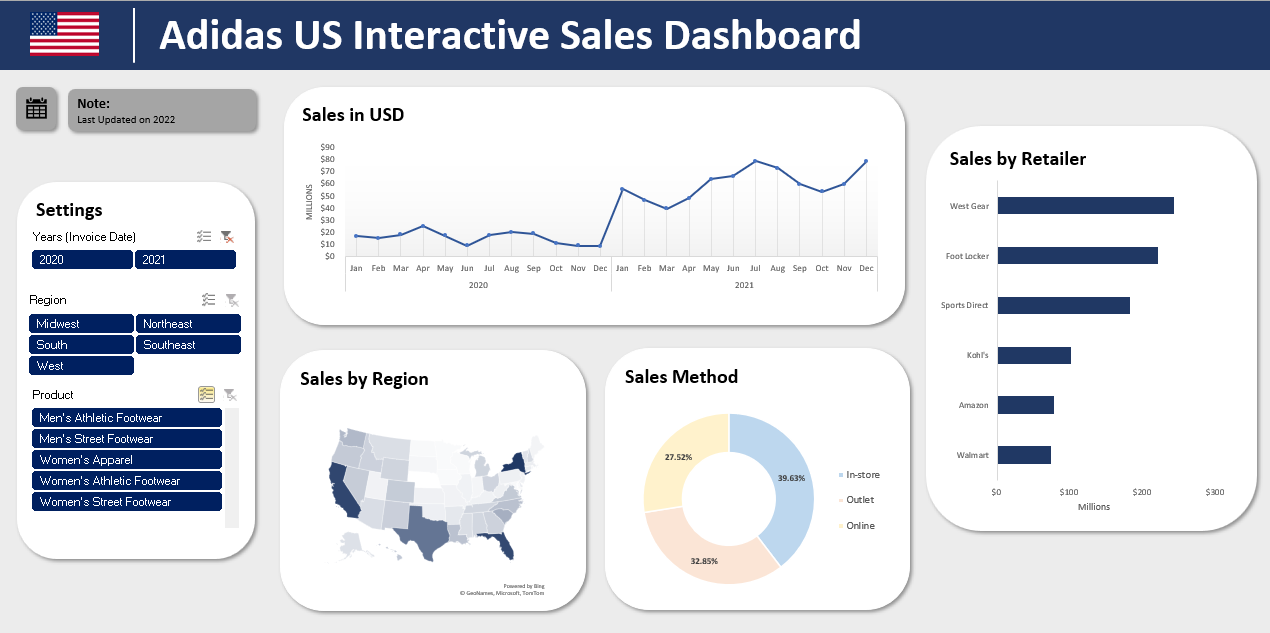

What the dashboard file says about the page in this screenshot:
{"tool":"powerbi","page":{"name":"Page 1","canvas":[1280,720],"ordinal":0},"visuals":[{"type":"group","id":"g1","title":"Group 2","box":[285,113.1,254.2,142.1],"z":0},{"type":"shape","box":[873.1,404.4,398.7,315.6],"z":1000},{"type":"shape","box":[0,423.3,485.7,257],"z":2000},{"type":"shape","box":[485.7,404.4,387.4,315.6],"z":3000},{"type":"shape","box":[570.7,115.3,701.1,289.1],"z":4000},{"type":"shape","box":[285,255.1,254.2,142.1],"z":4000,"group":"g2"},{"type":"shape","box":[0,0,1279.4,113.4],"z":5000},{"type":"shape","box":[285,113.1,254.2,142.1],"z":5000,"group":"g1"},{"type":"shape","box":[5.7,189,272.1,149.3],"z":6000},{"type":"textbox","box":[0,13.2,1279.4,88.8],"z":7000},{"type":"image","box":[126.6,7.6,98.3,88.8],"z":8000},{"type":"lineChart","title":"Total Sales in USD","fields":{"Category":["Data.Invoice Date.Variation.Date Hierarchy.Year","Data.Invoice Date.Variation.Date Hierarchy.Month"],"Y":["Sum(Data.Total Sales)"]},"box":[610.4,141.7,635,241.9],"z":9000},{"type":"columnChart","title":"Total Sales by Retailer","fields":{"Category":["Data.Retailer"],"Y":["Data.SUM of Sales"]},"box":[892.5,419.6,380.4,296.3],"z":10000},{"type":"card","fields":{"Values":["Data.YoY Growth"]},"box":[338.3,130.4,198.4,113.4],"z":11000},{"type":"card","fields":{"Values":["Data.SUM of Sales"]},"box":[33.3,206.7,215.5,117.4],"z":12000},{"type":"tableEx","title":"Product by Category","fields":{"Values":["Data.Product","Data.SUM of Sales","Sum(Data.Units Sold)"]},"box":[20.8,438.4,446,241.9],"z":13000},{"type":"card","fields":{"Values":["Data.TriangleIcon"]},"box":[291,141.7,71.8,71.8],"z":15000},{"type":"slicer","title":"Year","fields":{"Values":["Data.Invoice Date.Variation.Date Hierarchy.Year"]},"box":[13.2,117.2,257,71.8],"z":16000},{"type":"barChart","title":"Total Sales by Region and Sales Method","fields":{"Category":["Data.Region"],"Y":["Sum(Data.Total Sales)"],"Series":["Data.Sales Method"]},"box":[504.6,419.5,387.4,296.7],"z":17000},{"type":"group","id":"g2","title":"Group 2","box":[285,255.1,254.2,142.1],"z":18000},{"type":"card","fields":{"Values":["Sum(Data.Operating Profit)"]},"box":[295.3,261.7,241.1,125.2],"z":18500}]}

Visuals, with their boxes on the page's 1280x720 design canvas (x1, y1, x2, y2). These are canvas units, not pixel positions in the 1270x633 screenshot, which may show the page scaled, cropped or inside an application window:
"Group 2" group: detection(285, 113, 539, 255)
shape: detection(873, 404, 1272, 720)
shape: detection(0, 423, 486, 680)
shape: detection(486, 404, 873, 720)
shape: detection(571, 115, 1272, 404)
shape: detection(285, 255, 539, 397)
shape: detection(0, 0, 1279, 113)
shape: detection(285, 113, 539, 255)
shape: detection(6, 189, 278, 338)
textbox: detection(0, 13, 1279, 102)
image: detection(127, 8, 225, 96)
"Total Sales in USD" lineChart: detection(610, 142, 1245, 384)
"Total Sales by Retailer" columnChart: detection(892, 420, 1273, 716)
card - Data.YoY Growth: detection(338, 130, 537, 244)
card - Data.SUM of Sales: detection(33, 207, 249, 324)
"Product by Category" tableEx: detection(21, 438, 467, 680)
card - Data.TriangleIcon: detection(291, 142, 363, 214)
"Year" slicer: detection(13, 117, 270, 189)
"Total Sales by Region and Sales Method" barChart: detection(505, 420, 892, 716)
"Group 2" group: detection(285, 255, 539, 397)
card - Sum(Data.Operating Profit): detection(295, 262, 536, 387)
